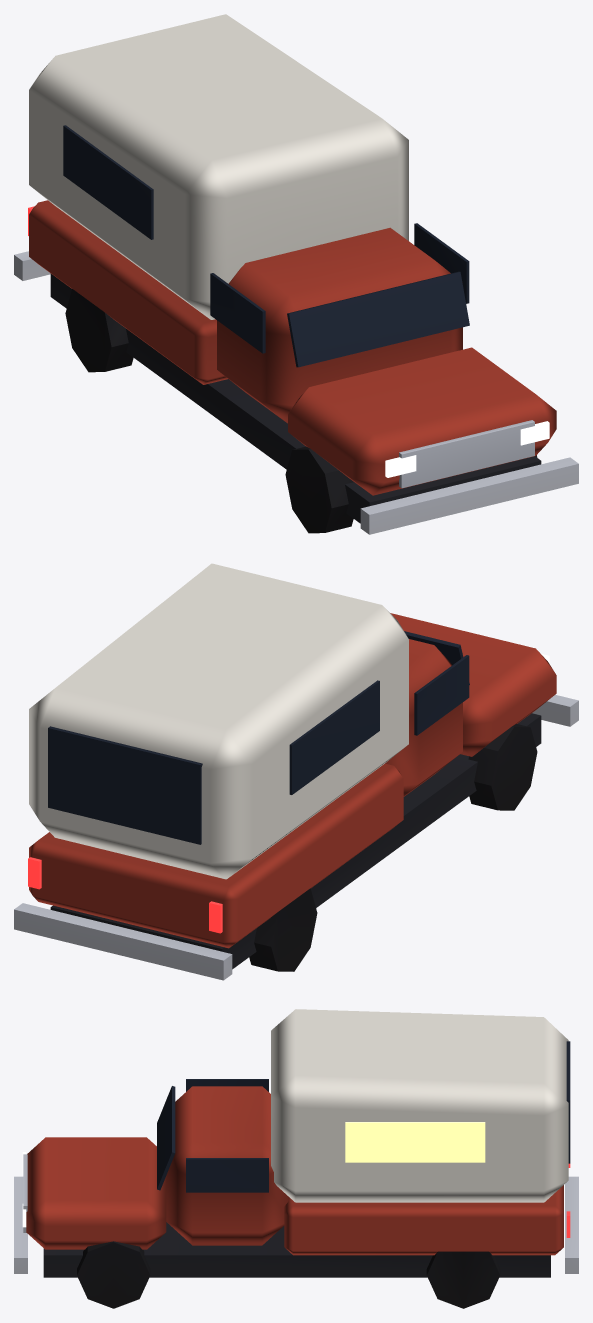
Rendered from camper_lo.glb.
The picture shows the model from 3 angles, top to bottom: view 1: azimuth 30°, elevation 25°; view 2: azimuth 150°, elevation 25°; view 3: azimuth 270°, elevation 25°; orthographic projection. The views are drawn at different scales.
Parts seen in each view (by area): view 1: shell, hood, cab, bed, screen, frame, bumper_1, swin_0, grille, tyre_1_0, tyre_0_0, side_glass_0 (+2 smaller); view 2: shell, bed, hatch, hood, frame, bumper_0, cab, swin_0, tyre_1_0, tyre_0_0, side_glass_0, bumper_1 (+1 smaller); view 3: shell, bed, hood, cab, frame, swin_1, tyre_1_1, tyre_0_1, side_glass_1, screen, bumper_0, bumper_1 (+2 smaller).
Part boxes in pixels (box(x1,y1,x2,y2)): shell: box(29, 14, 408, 319); hood: box(288, 347, 556, 495); cab: box(217, 227, 462, 423); bed: box(29, 200, 227, 384); screen: box(287, 271, 469, 367); frame: box(50, 273, 541, 523); bumper_1: box(360, 457, 578, 534); swin_0: box(63, 125, 153, 239); grille: box(399, 420, 534, 488); tyre_1_0: box(285, 446, 353, 533); tyre_0_0: box(65, 289, 133, 372); side_glass_0: box(210, 273, 265, 353); shell: box(29, 563, 408, 879); bed: box(29, 763, 403, 948); hatch: box(48, 726, 202, 844); hood: box(390, 613, 556, 756); frame: box(50, 713, 541, 969); bumper_0: box(14, 903, 232, 980); cab: box(385, 639, 462, 796); swin_0: box(289, 680, 379, 794); tyre_1_0: box(468, 724, 537, 810); tyre_0_0: box(249, 888, 317, 971); side_glass_0: box(414, 655, 469, 735); bumper_1: box(532, 694, 578, 726); shell: box(271, 1009, 568, 1202); bed: box(284, 1185, 563, 1255); hood: box(26, 1137, 166, 1249); cab: box(166, 1086, 288, 1245); frame: box(43, 1222, 550, 1277); swin_1: box(345, 1122, 485, 1162); tyre_1_1: box(77, 1241, 150, 1308); tyre_0_1: box(426, 1251, 500, 1308); side_glass_1: box(186, 1158, 268, 1192); screen: box(157, 1086, 175, 1190); bumper_0: box(565, 1176, 578, 1273); bumper_1: box(14, 1176, 27, 1273).
Size of the model in its own units: 2.4 by 2.86 by 6.46.
